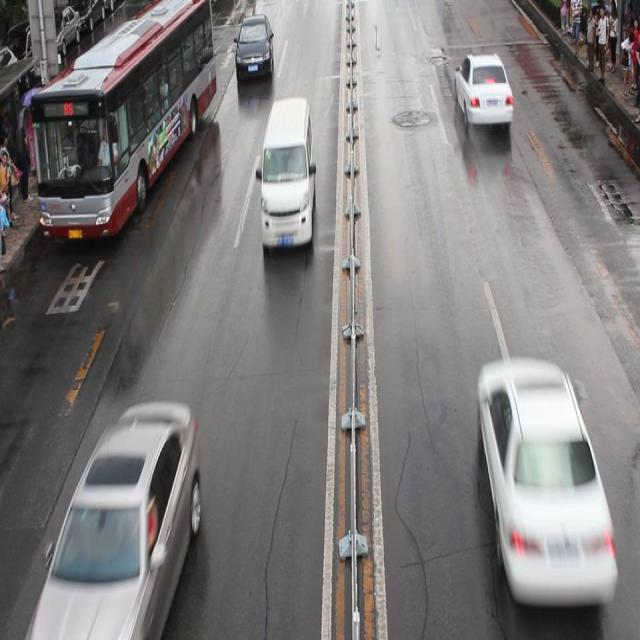car: (28, 398, 200, 640), (475, 357, 616, 604), (452, 54, 513, 126), (234, 16, 274, 80)
truck: (259, 97, 314, 250)
van: (32, 1, 214, 242)
